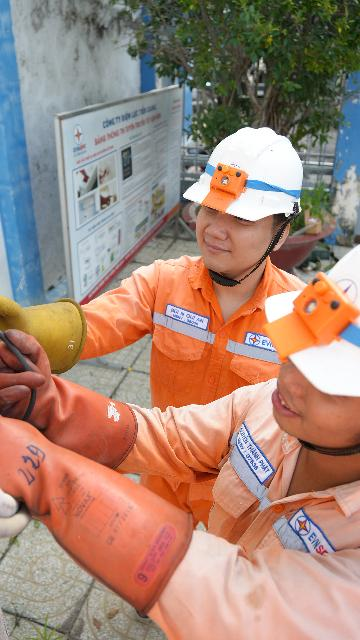gloves: (0, 404, 195, 609), (2, 323, 143, 470), (3, 276, 94, 378)
helmet: (257, 239, 360, 433), (182, 118, 308, 228)
